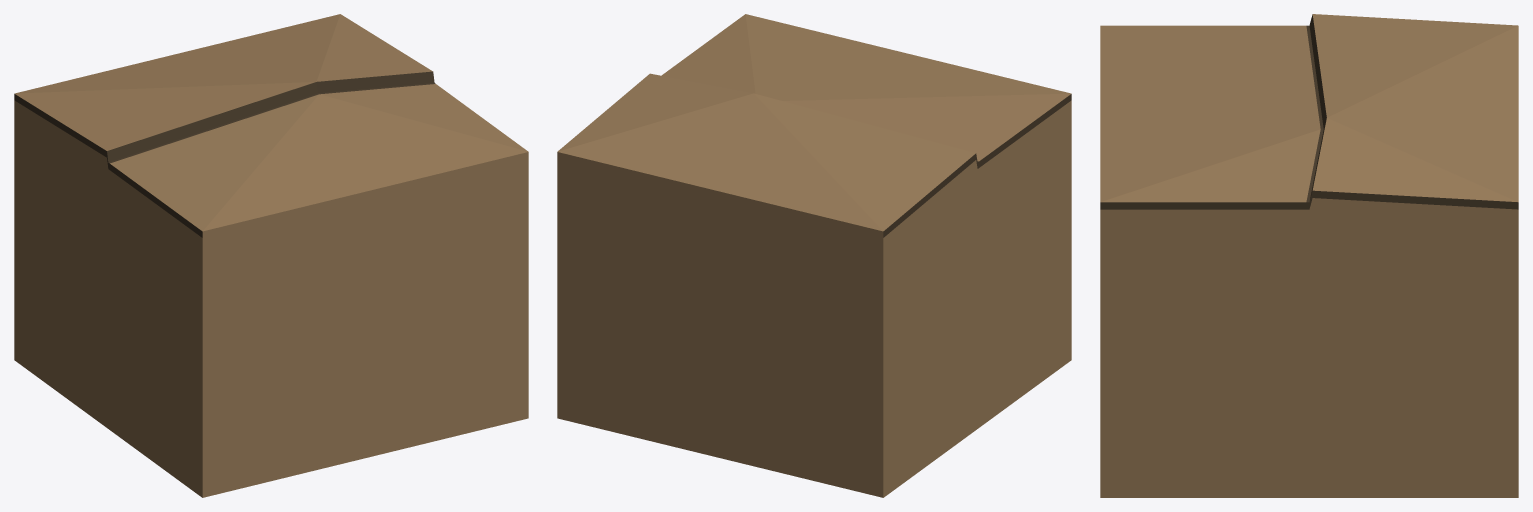
The model's file is SM_Prop_CardboardBox_01.obj.
The picture shows the model from 3 angles, left to right: view 1: azimuth 30°, elevation 25°; view 2: azimuth 150°, elevation 25°; view 3: azimuth 270°, elevation 25°; orthographic projection. The views are drawn at different scales.
Parts seen in each view (by area): view 1: SM_Prop_CardboardBox_01_0; view 2: SM_Prop_CardboardBox_01_0; view 3: SM_Prop_CardboardBox_01_0.
Part boxes in pixels (<box>): SM_Prop_CardboardBox_01_0: <box>14,14,528,497</box>; SM_Prop_CardboardBox_01_0: <box>557,14,1071,497</box>; SM_Prop_CardboardBox_01_0: <box>1100,14,1518,497</box>.
Bounding box in the file's own units: 0.5975 × 0.5053 × 0.5975.
1 material, 1 textured.
